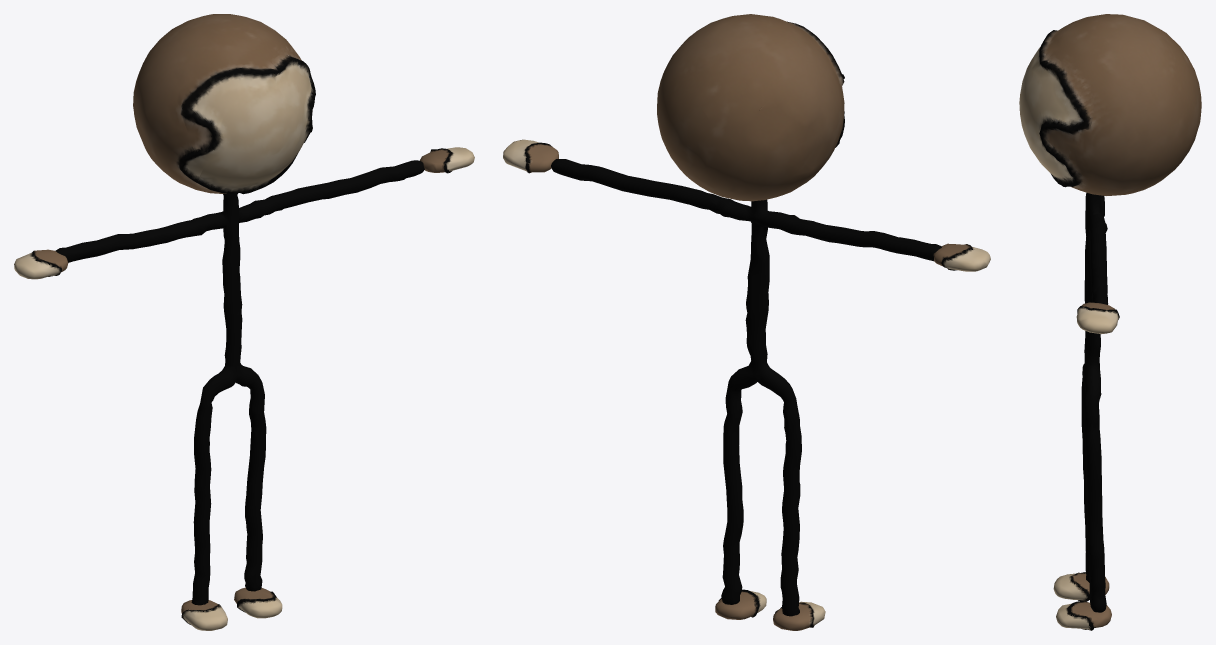
Rendered from ape mfer.glb.
3 renders of one model, left to right at view 1: azimuth 30°, elevation 25°; view 2: azimuth 150°, elevation 25°; view 3: azimuth 270°, elevation 25°, orthographic. The views are drawn at different scales.
Parts seen in each view (by area): view 1: type_ape.003; view 2: type_ape.003; view 3: type_ape.003.
Part boxes in pixels (x1,y1,x2,y2): type_ape.003: (14, 14, 474, 630); type_ape.003: (503, 14, 990, 630); type_ape.003: (1019, 14, 1201, 630).
Bounding box in the file's own units: 0.9748 × 1.19 × 0.332.
Materials: 3 (3 with a texture image).
